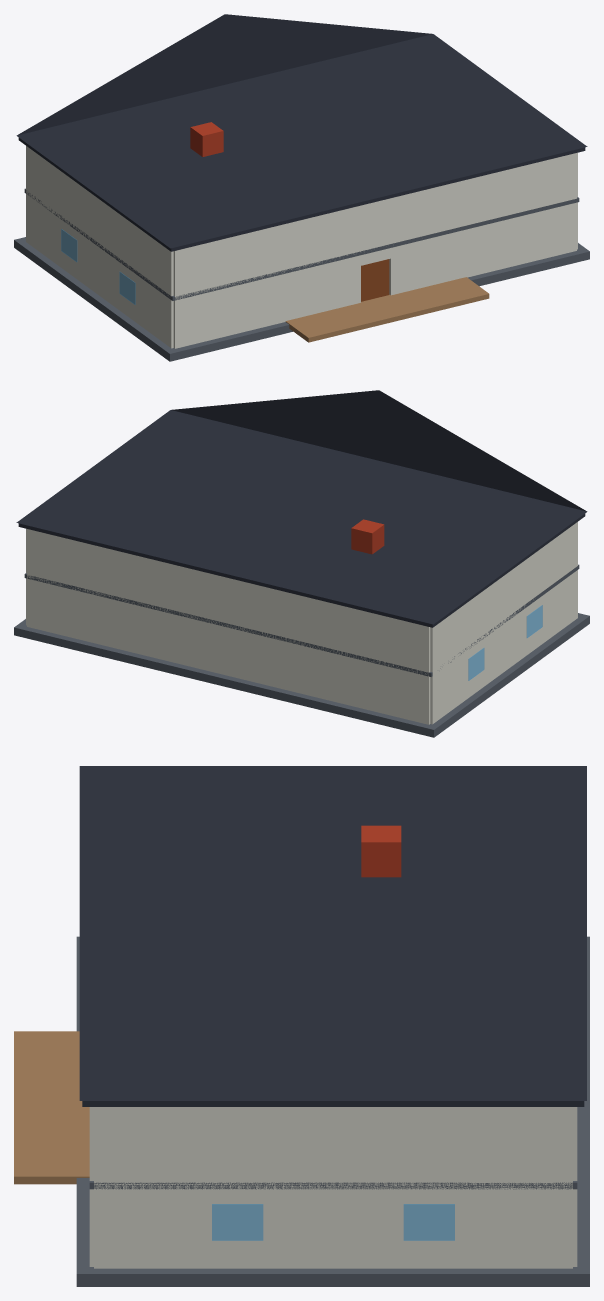
The model's file is bp_proj1_1788450607629_2D_Technical_Blueprint_pdf.obj.
The picture shows the model from 3 angles, top to bottom: view 1: azimuth 30°, elevation 25°; view 2: azimuth 150°, elevation 25°; view 3: azimuth 270°, elevation 25°; orthographic projection. The views are drawn at different scales.
Visible parts, largest first — view 1: Roof_Gable_Pitch, Ext_Wall_South_2F, Ext_Wall_South_L, Ext_Wall_South_R, Ext_Wall_West, Ext_Wall_West_2F, Foundation_Slab, Porch_Deck, Second_Floor_Slab, Roof_Cap_Base, Main_Door, Masonry_Chimney; view 2: Roof_Gable_Pitch, Ext_Wall_North, Ext_Wall_North_2F, Foundation_Slab, Ext_Wall_West, Ext_Wall_West_2F, Second_Floor_Slab, Roof_Cap_Base, Masonry_Chimney; view 3: Roof_Gable_Pitch, Ext_Wall_East, Ext_Wall_East_2F, Foundation_Slab, Porch_Deck, Second_Floor_Slab, Roof_Cap_Base, Masonry_Chimney, Window_East_1, Window_East_2.
Boxes of the visible parts, x1,y1,x2,y2 form: Roof_Gable_Pitch: [16, 14, 587, 248]; Ext_Wall_South_2F: [173, 153, 576, 298]; Ext_Wall_South_L: [173, 255, 360, 348]; Ext_Wall_South_R: [389, 202, 576, 295]; Ext_Wall_West: [26, 192, 173, 348]; Ext_Wall_West_2F: [26, 146, 173, 296]; Foundation_Slab: [14, 237, 589, 361]; Porch_Deck: [285, 277, 489, 342]; Second_Floor_Slab: [24, 188, 579, 300]; Roof_Cap_Base: [18, 138, 585, 251]; Main_Door: [361, 259, 389, 301]; Masonry_Chimney: [190, 122, 223, 156]; Roof_Gable_Pitch: [16, 390, 587, 624]; Ext_Wall_North: [27, 577, 430, 724]; Ext_Wall_North_2F: [27, 529, 430, 674]; Foundation_Slab: [14, 613, 589, 737]; Ext_Wall_West: [430, 570, 577, 724]; Ext_Wall_West_2F: [430, 522, 577, 673]; Second_Floor_Slab: [24, 564, 579, 676]; Roof_Cap_Base: [18, 514, 585, 627]; Masonry_Chimney: [351, 519, 384, 554]; Roof_Gable_Pitch: [79, 766, 586, 1100]; Ext_Wall_East: [94, 1186, 572, 1268]; Ext_Wall_East_2F: [94, 1107, 572, 1185]; Foundation_Slab: [76, 936, 589, 1286]; Porch_Deck: [14, 1031, 89, 1184]; Second_Floor_Slab: [89, 1181, 577, 1189]; Roof_Cap_Base: [82, 1101, 584, 1106]; Masonry_Chimney: [361, 825, 401, 877]; Window_East_1: [403, 1204, 454, 1240]; Window_East_2: [212, 1204, 263, 1240].
Size of the model in its own units: 28 by 12.11 by 20.2.
